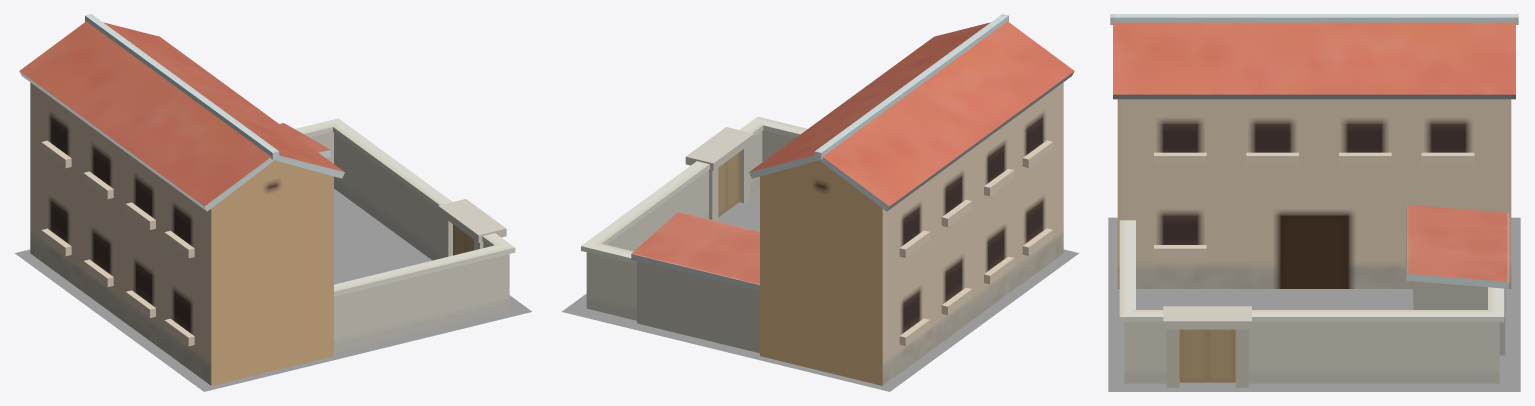
The model's file is Plain_Building_Residential_L2_04_Mod.fbx.
3 renders of one model, left to right at view 1: azimuth 30°, elevation 25°; view 2: azimuth 150°, elevation 25°; view 3: azimuth 270°, elevation 25°, orthographic. The views are drawn at different scales.
Parts seen in each view (by area): view 1: Plain_Building_Residential_L2_04_Mod; view 2: Plain_Building_Residential_L2_04_Mod; view 3: Plain_Building_Residential_L2_04_Mod.
Boxes of the visible parts, bbox=[...] form: Plain_Building_Residential_L2_04_Mod: bbox=[15, 14, 531, 391]; Plain_Building_Residential_L2_04_Mod: bbox=[562, 14, 1078, 391]; Plain_Building_Residential_L2_04_Mod: bbox=[1108, 14, 1520, 391].
Size of the model in its own units: 1200 by 777 by 1200.
